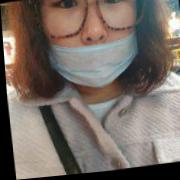WRONG: (39, 1, 144, 96)
